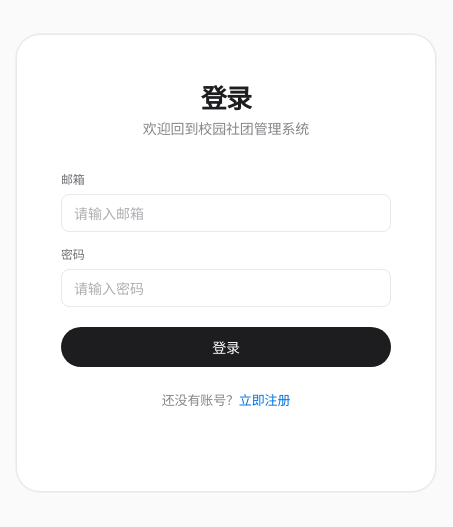
LoginPage › renders user-facing error on failure
The image size is (453, 527).
Type "bad@example.com" into the field labelled "邮箱" at (226, 213), box [61,194,391,232]
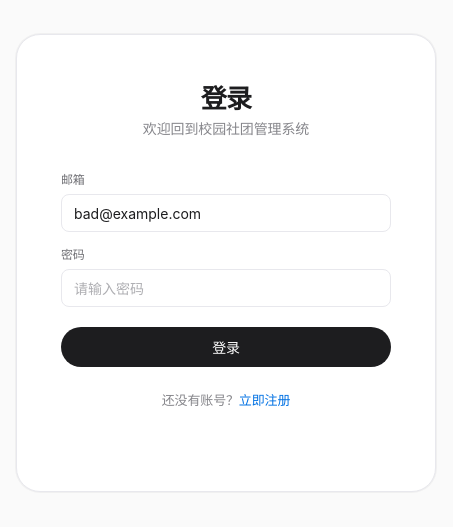
Type "wrong" into the password field labelled "密码" at (226, 288), box [61,269,391,307]
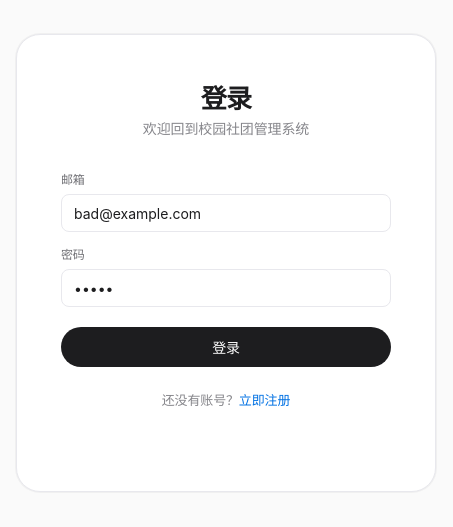
Click the button "登录" at (226, 347), box [61,327,391,367]
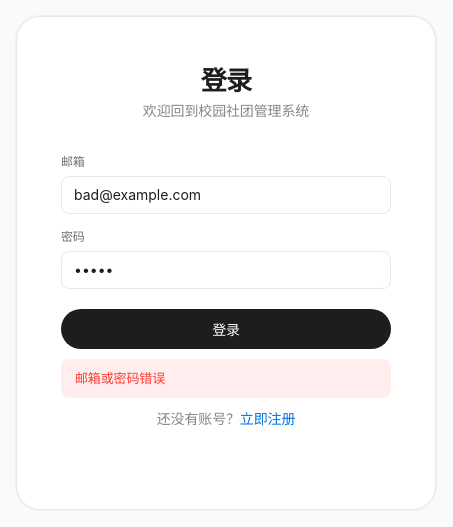
Now the message reads "邮箱或密码错误", box [75,370,165,386]
